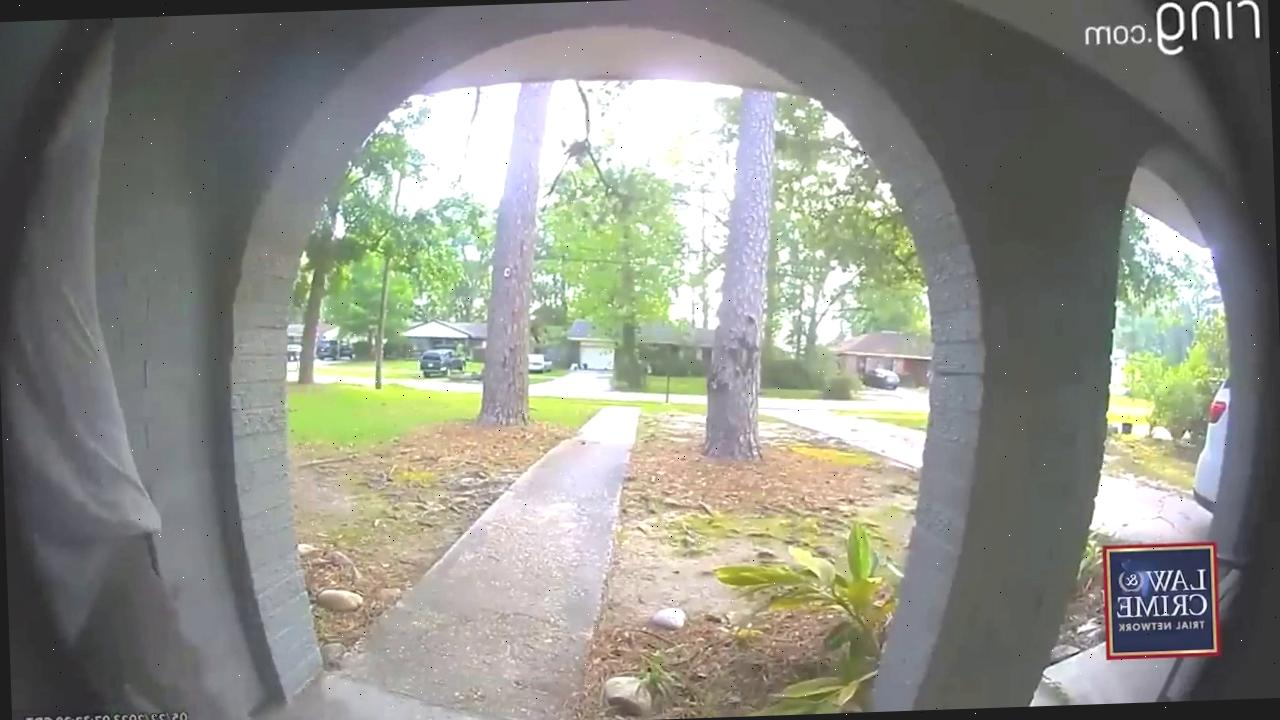suspicion: (0, 16, 204, 716)
